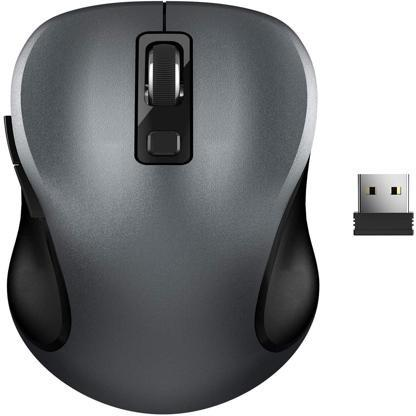not trash: (3, 2, 321, 416), (354, 171, 414, 236)
